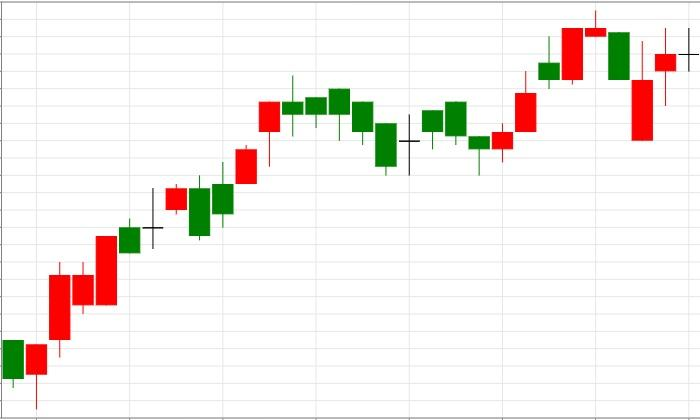bearish_engulfing_fall: (25, 175, 210, 409)
evening_star_fall: (468, 10, 631, 176)
